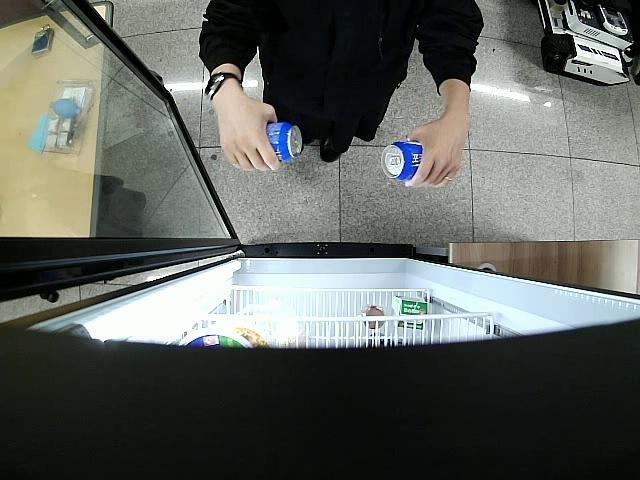13_pocariSweat: (382, 138, 424, 182), (266, 123, 304, 164)
